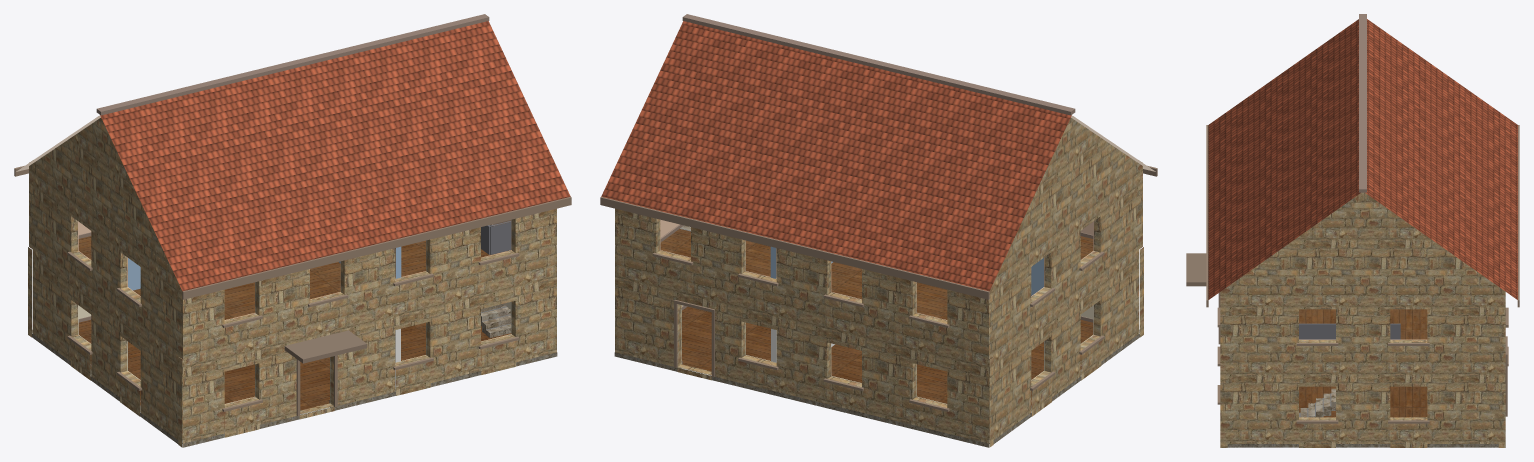
File: village-inn.windows-v1.lod0.glb
3 views of the same model, side by side, from view 1: azimuth 30°, elevation 25°; view 2: azimuth 150°, elevation 25°; view 3: azimuth 270°, elevation 25° (orthographic). The views are drawn at different scales.
Visible parts, largest first — view 1: village-inn; view 2: village-inn; view 3: village-inn.
Part boxes in pixels (x1,y1,x2,y2): village-inn: (14,14,571,447); village-inn: (600,14,1157,447); village-inn: (1186,14,1519,447).
Bounding box in the file's own units: 14.54 × 10.13 × 11.69.
Materials: 5 (4 with a texture image).
